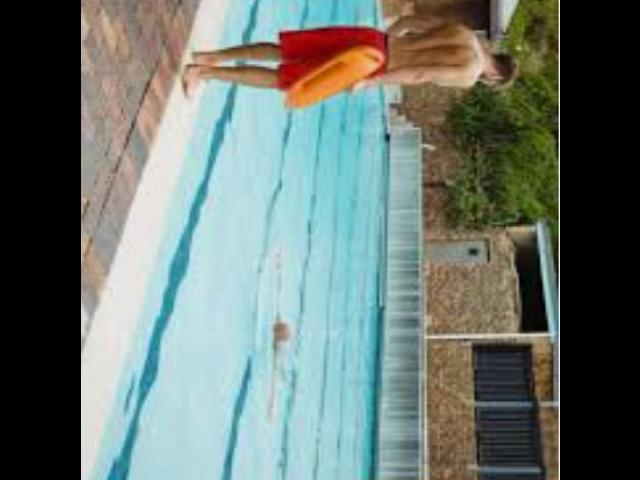out of water: (178, 13, 520, 106)
swimming: (252, 250, 302, 406)
